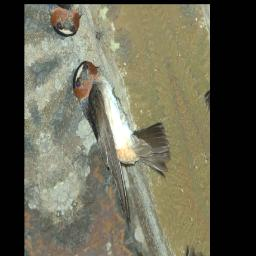Swallow: (66, 30, 186, 234)
